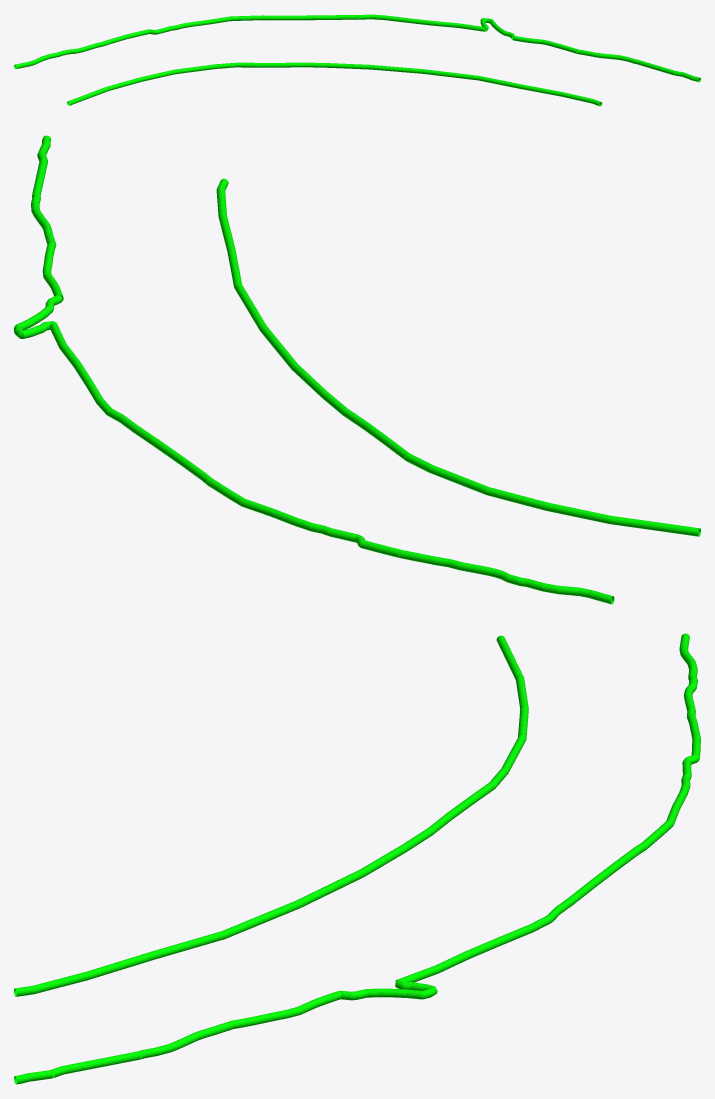
File: Shore2000Lines_0.fbx
The picture shows the model from 3 angles, top to bottom: view 1: azimuth 30°, elevation 25°; view 2: azimuth 150°, elevation 25°; view 3: azimuth 270°, elevation 25°; orthographic projection. The views are drawn at different scales.
Visible parts, largest first — view 1: CityEngineMaterial_m; view 2: CityEngineMaterial_m; view 3: CityEngineMaterial_m.
Boxes of the visible parts, bbox=[...] form: CityEngineMaterial_m: bbox=[14, 14, 700, 106]; CityEngineMaterial_m: bbox=[14, 135, 700, 604]; CityEngineMaterial_m: bbox=[14, 633, 700, 1084].
Bounding box in the file's own units: 607 × 5 × 396.
